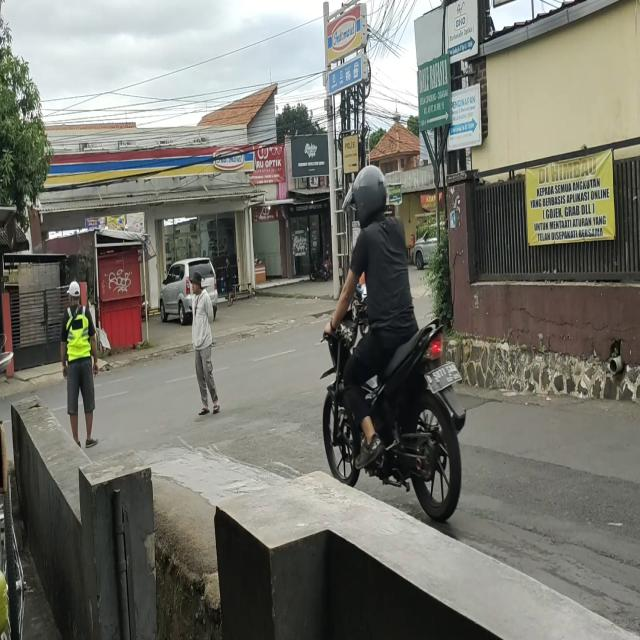helmet: (354, 166, 386, 221)
